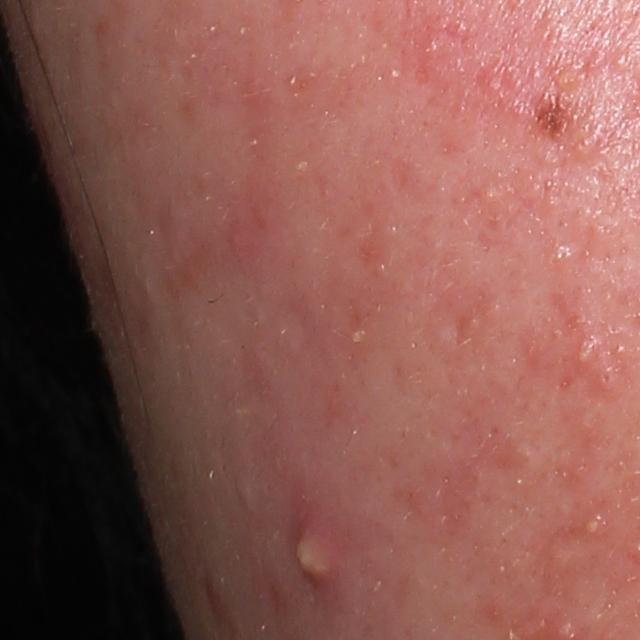atrophic_scar: (444, 295, 483, 357)
comedo: (595, 363, 620, 393)
nevus: (536, 101, 564, 137)
pustule: (296, 526, 334, 581), (572, 344, 596, 366), (582, 516, 602, 538)
